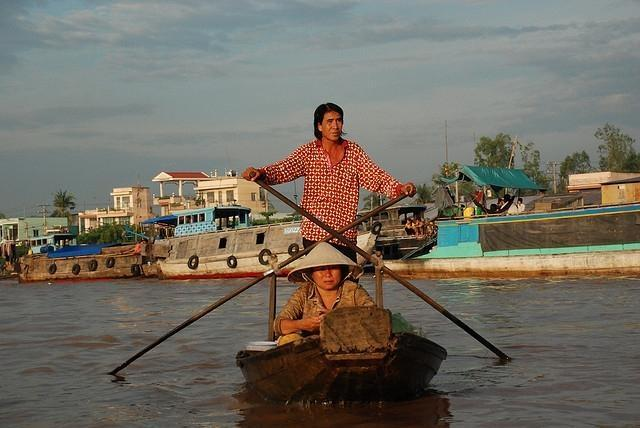bus: (140, 206, 253, 240)
